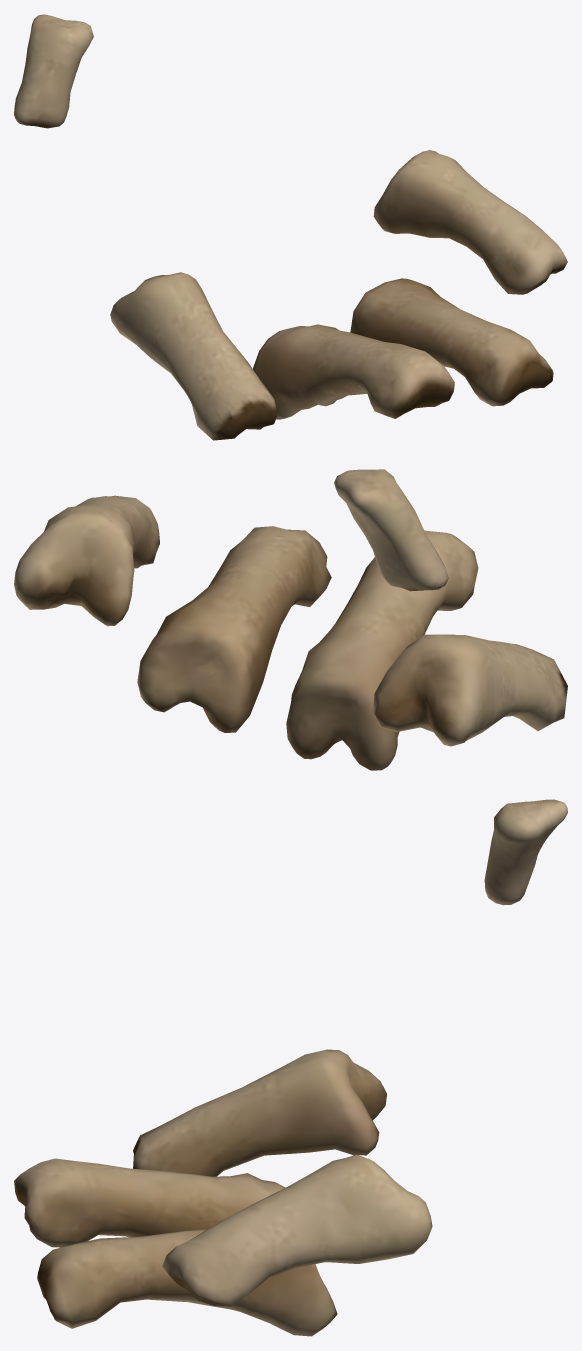
The model's file is Proximal_Phalanges.glb.
3 renders of one model, top to bottom at view 1: azimuth 30°, elevation 25°; view 2: azimuth 150°, elevation 25°; view 3: azimuth 270°, elevation 25°, orthographic. The views are drawn at different scales.
Parts seen in each view (by area): view 1: polySurface2, polySurface5, polySurface3, polySurface4, polySurface1; view 2: polySurface4, polySurface3, polySurface2, polySurface5, polySurface1; view 3: polySurface5, polySurface2, polySurface3, polySurface4, polySurface1.
Boxes of the visible parts, box(x1,y1,x2,y2) form: polySurface2: box(110, 272, 276, 440); polySurface5: box(373, 150, 567, 294); polySurface3: box(253, 324, 454, 419); polySurface4: box(350, 278, 553, 406); polySurface1: box(14, 14, 93, 128); polySurface4: box(137, 526, 331, 732); polySurface3: box(286, 530, 478, 770); polySurface2: box(373, 634, 567, 746); polySurface5: box(14, 495, 159, 626); polySurface1: box(334, 469, 448, 591); polySurface5: box(162, 1154, 432, 1306); polySurface2: box(133, 1049, 386, 1176); polySurface3: box(14, 1158, 285, 1247); polySurface4: box(37, 1229, 337, 1336); polySurface1: box(484, 799, 567, 905).
Bounding box in the file's own units: 48.44 × 37.08 × 45.72.
Materials: 1 (1 with a texture image).
